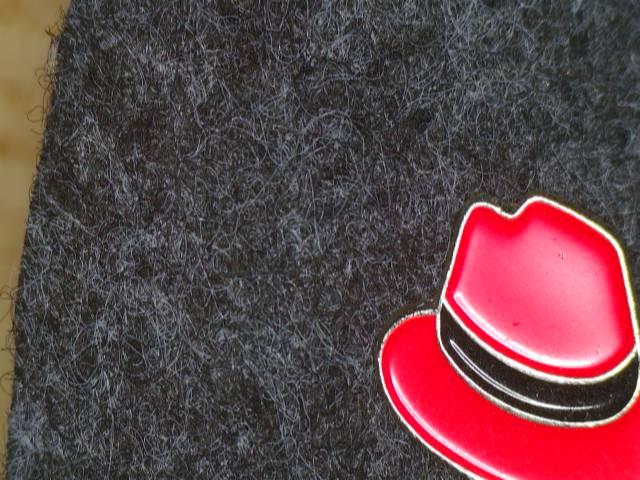Red-Hat: (347, 166, 640, 480)
